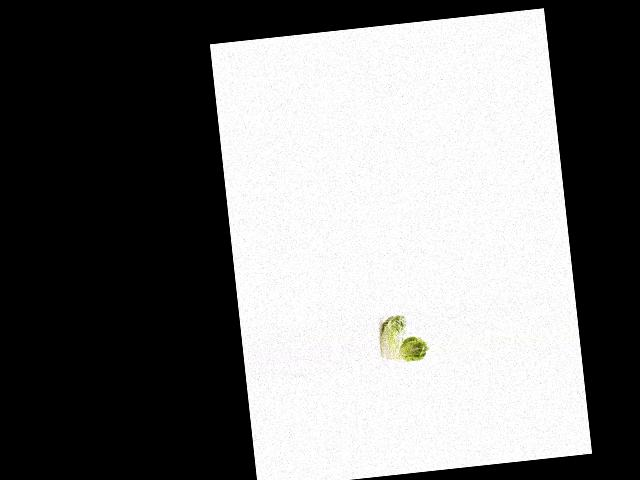lettuce: (375, 311, 413, 363)
